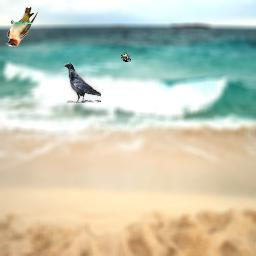Crow: (64, 63, 101, 103)
Swallow: (6, 7, 38, 47), (121, 52, 131, 62)
